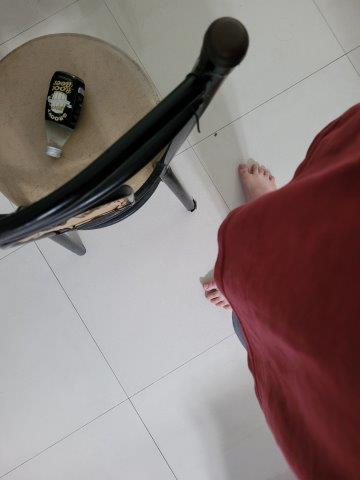botolkaca: (43, 69, 85, 158)
